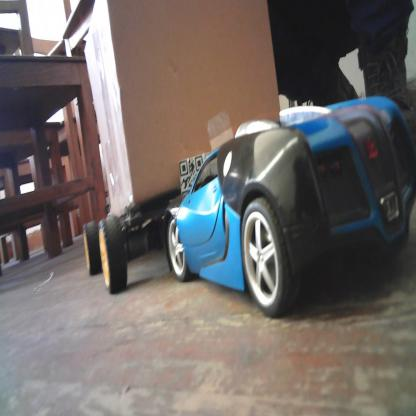LeadTruck: (97, 3, 285, 290)
